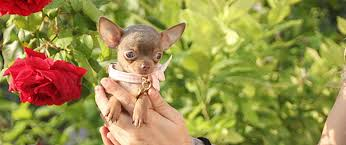chihuahua: (89, 12, 213, 126)
